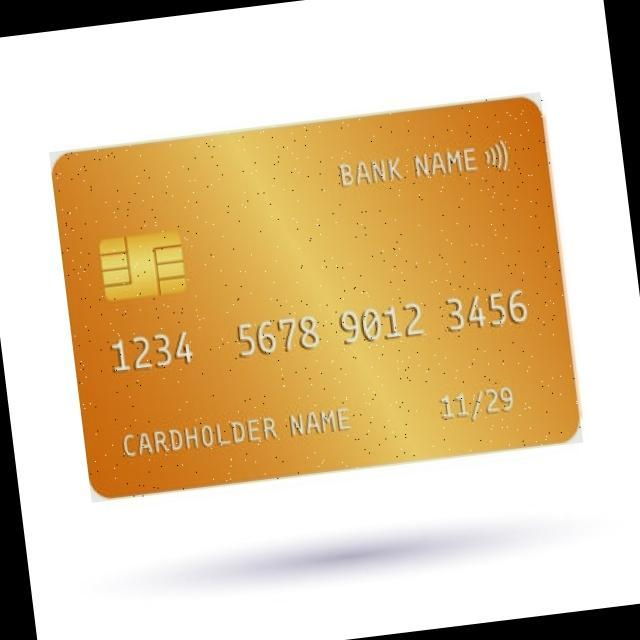payment_card: (48, 92, 582, 499)
